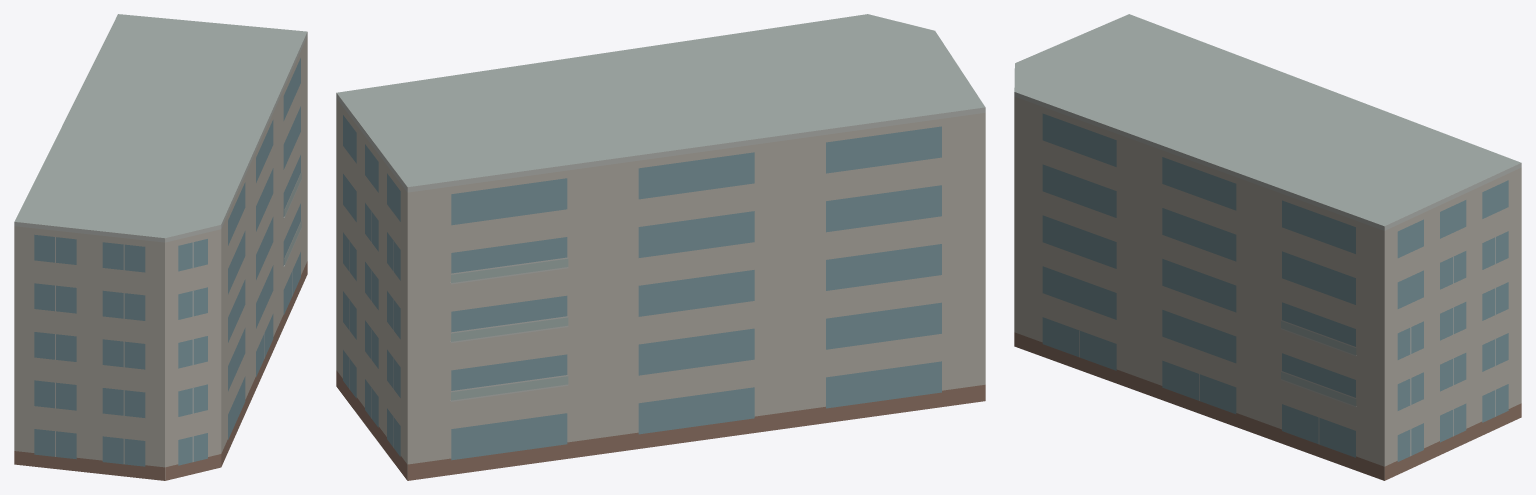
Rendered from survey-upis-32944690.glb.
3 views of the same model, side by side, from view 1: azimuth 30°, elevation 25°; view 2: azimuth 150°, elevation 25°; view 3: azimuth 270°, elevation 25° (orthographic). The views are drawn at different scales.
Parts seen in each view (by area): view 1: survey-upis-32944690.tmp; view 2: survey-upis-32944690.tmp; view 3: survey-upis-32944690.tmp.
Boxes of the visible parts, bbox=[...] form: survey-upis-32944690.tmp: bbox=[14, 14, 307, 480]; survey-upis-32944690.tmp: bbox=[336, 14, 985, 480]; survey-upis-32944690.tmp: bbox=[1014, 14, 1521, 480].
Size of the model in its own units: 23.97 by 13.4 by 24.2.
